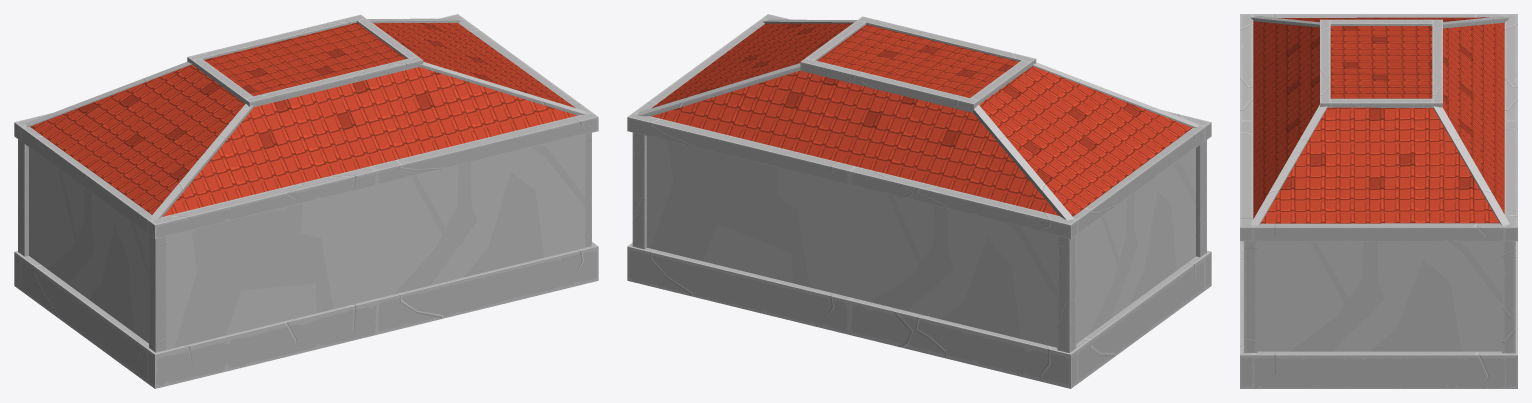
The model's file is House1.fbx.
The picture shows the model from 3 angles, left to right: view 1: azimuth 30°, elevation 25°; view 2: azimuth 150°, elevation 25°; view 3: azimuth 270°, elevation 25°; orthographic projection.
Parts seen in each view (by area): view 1: House1; view 2: House1; view 3: House1.
Boxes of the visible parts, x1,y1,x2,y2 form: House1: (14,14,598,388); House1: (627,14,1211,388); House1: (1240,14,1517,388).
Bounding box in the file's own units: 2413 × 1174 × 1327.
